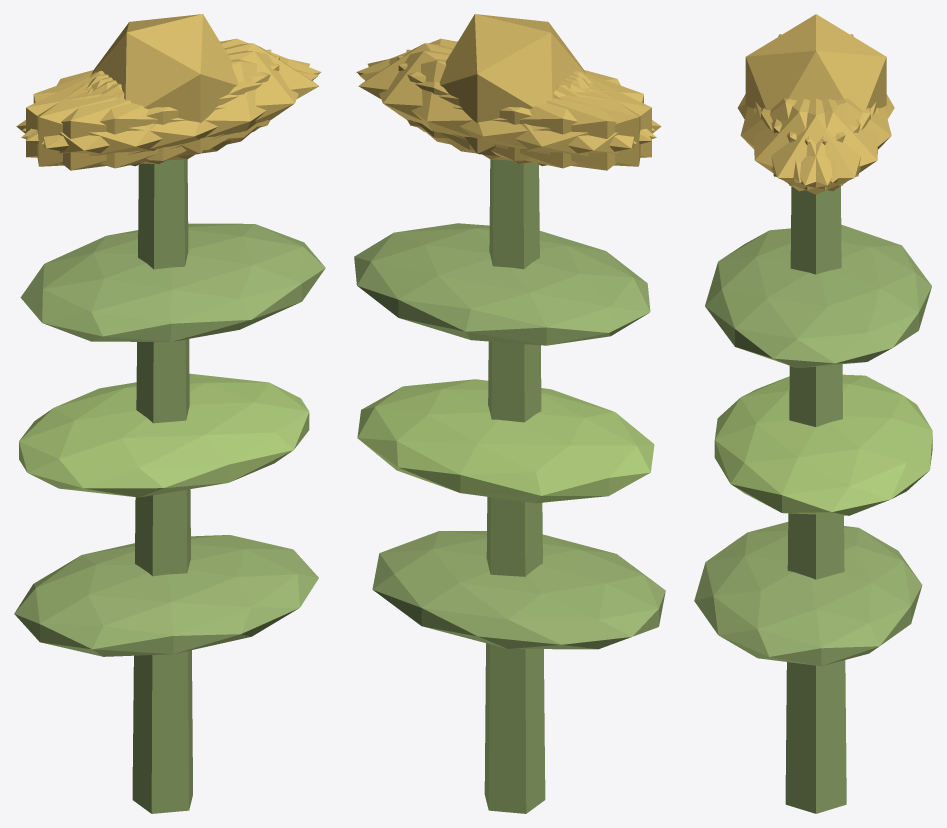
Rendered from artocarpus-lacucha.glb.
3 views of the same model, side by side, from view 1: azimuth 30°, elevation 25°; view 2: azimuth 150°, elevation 25°; view 3: azimuth 270°, elevation 25° (orthographic).
Visible parts, largest first — view 1: leaf0, leaf2, leaf1, stem, center, petal1, petal6, petal2, petal5, petal7, petal0, petal4 (+2 smaller); view 2: leaf1, leaf2, leaf0, stem, center, petal8, petal3, petal7, petal4, petal2, petal0, petal5 (+2 smaller); view 3: leaf2, leaf1, leaf0, stem, center, petal0, petal5, petal4, petal1, petal8.
Part boxes in pixels (left/top/right/bottom): leaf0: left=14, top=535, right=318, bottom=656; leaf2: left=20, top=223, right=325, bottom=341; leaf1: left=19, top=373, right=309, bottom=497; stem: left=132, top=159, right=192, bottom=813; center: left=91, top=14, right=237, bottom=156; petal1: left=21, top=59, right=318, bottom=168; petal6: left=16, top=72, right=231, bottom=170; petal2: left=37, top=49, right=271, bottom=166; petal5: left=41, top=50, right=309, bottom=160; petal7: left=26, top=56, right=279, bottom=164; petal0: left=91, top=43, right=319, bottom=150; petal4: left=22, top=38, right=321, bottom=141; leaf1: left=357, top=379, right=654, bottom=503; leaf2: left=354, top=223, right=650, bottom=345; leaf0: left=372, top=531, right=665, bottom=649; stem: left=484, top=159, right=545, bottom=813; center: left=439, top=14, right=586, bottom=156; petal8: left=359, top=59, right=656, bottom=168; petal3: left=446, top=72, right=661, bottom=170; petal7: left=406, top=49, right=640, bottom=166; petal4: left=367, top=50, right=636, bottom=160; petal2: left=397, top=56, right=651, bottom=164; petal0: left=358, top=43, right=586, bottom=150; petal5: left=356, top=38, right=655, bottom=141; leaf2: left=705, top=224, right=931, bottom=368; leaf1: left=714, top=374, right=932, bottom=515; leaf0: left=694, top=522, right=922, bottom=666; stem: left=785, top=186, right=846, bottom=813; center: left=745, top=14, right=886, bottom=110; petal0: left=755, top=99, right=876, bottom=194; petal5: left=754, top=99, right=870, bottom=191; petal4: left=761, top=99, right=878, bottom=191; petal1: left=740, top=98, right=860, bottom=182; petal8: left=771, top=98, right=891, bottom=182.
Size of the model in its own units: 0.1452 by 0.3687 by 0.1038.
